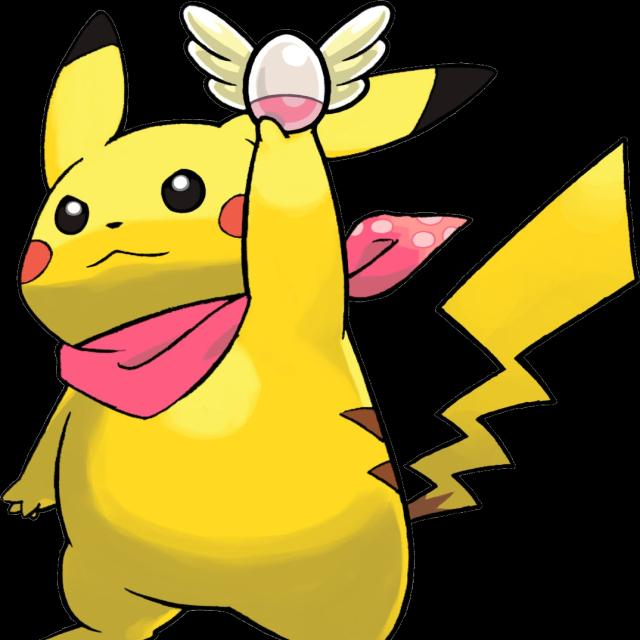Pikachu: (51, 110, 352, 623)
